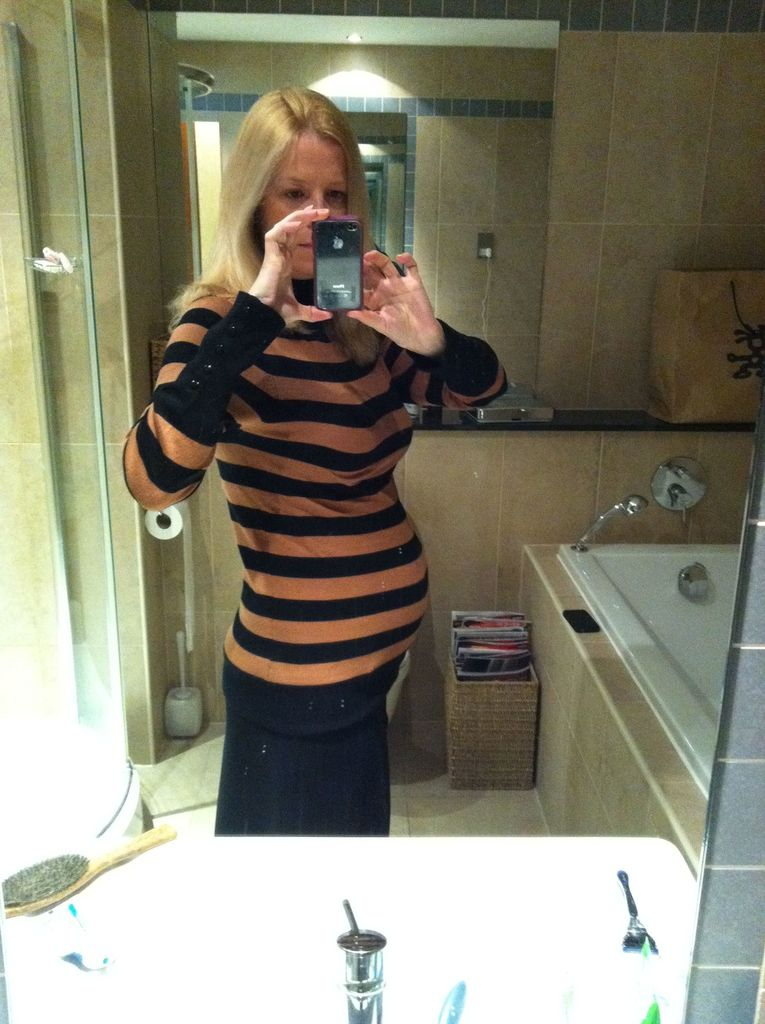mobile phone: (314, 218, 366, 312)
